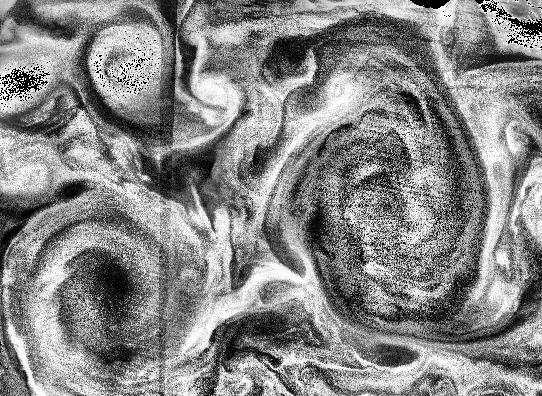AE: (265, 61, 517, 354), (8, 198, 207, 388), (80, 10, 170, 116)
CE: (189, 75, 247, 119)
